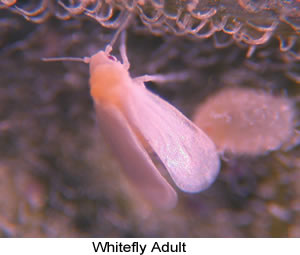whitefly: (40, 19, 222, 210)
